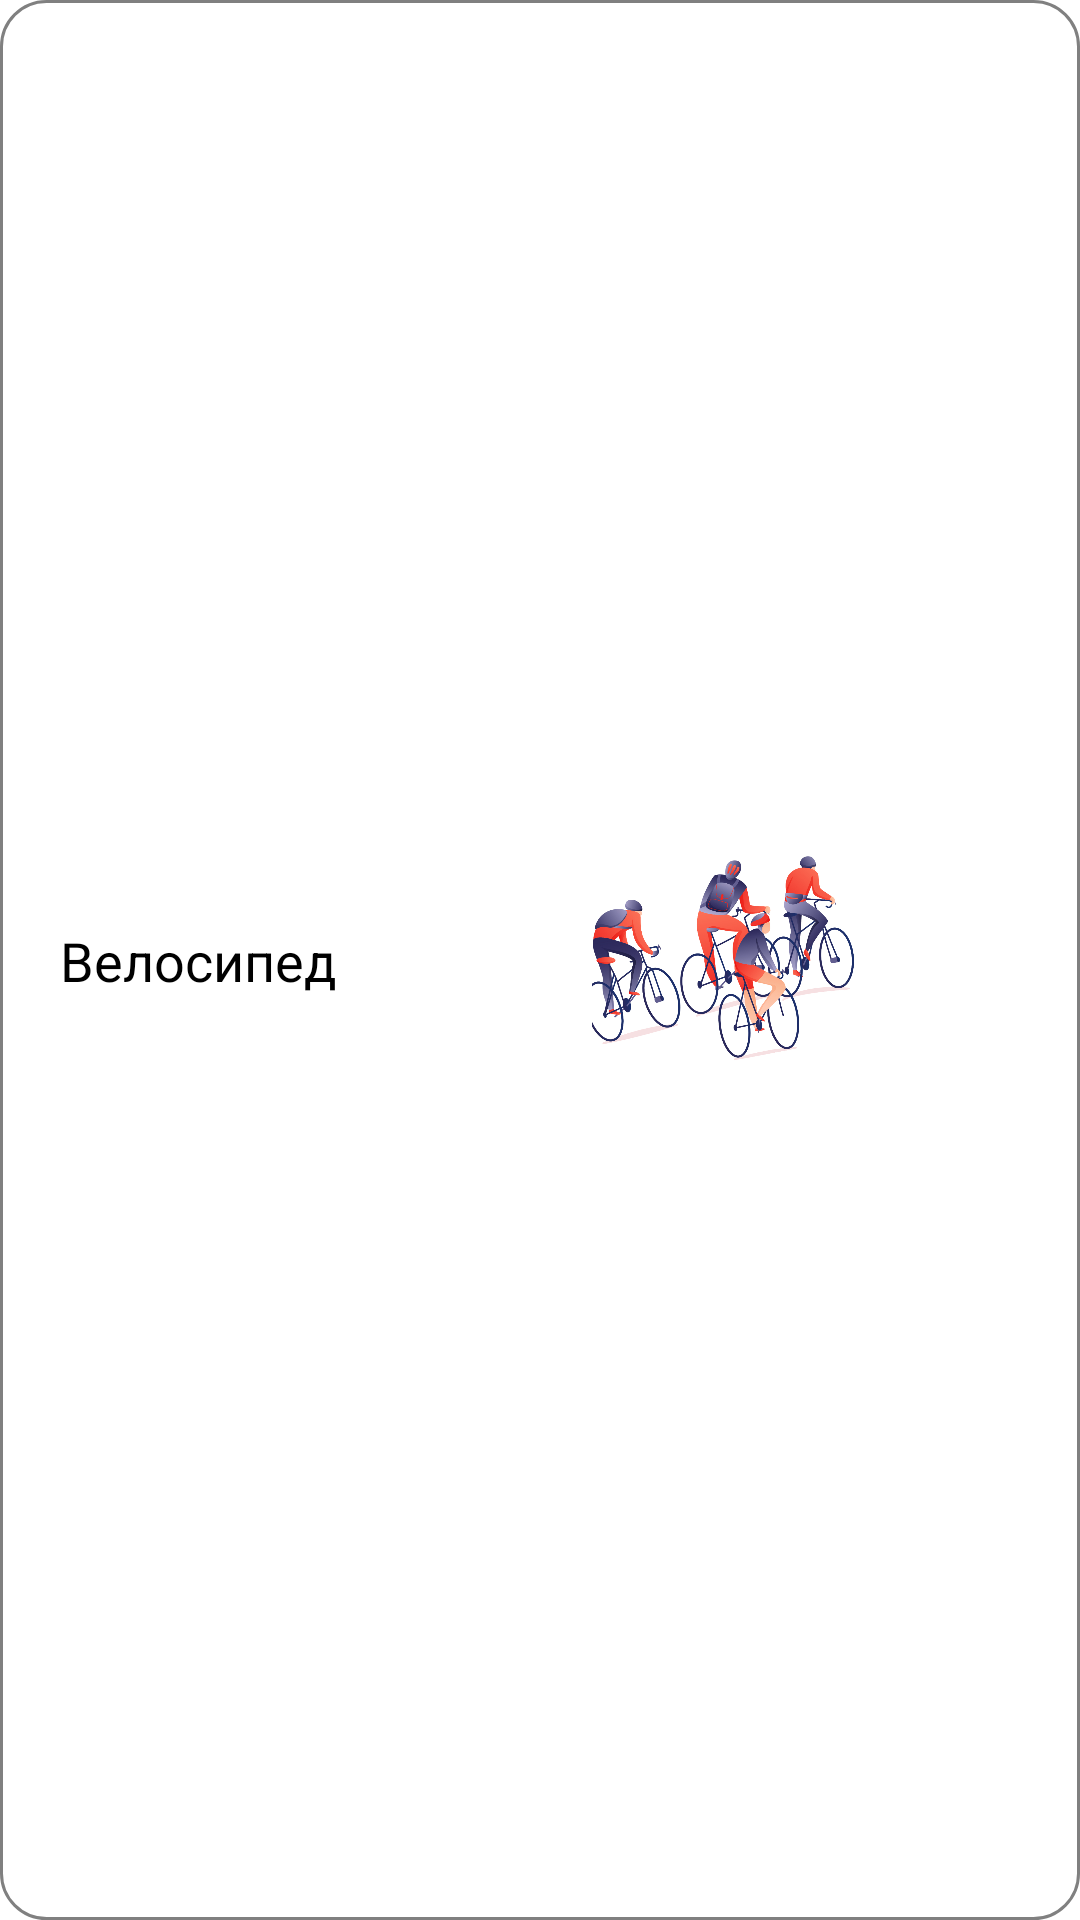

Where icons sit on this 1080px x 1920px app screen, as {"left": x1, "top": y1, "right": x2, "bottom": y2}:
bicycles: {"left": 592, "top": 856, "right": 854, "bottom": 1060}
